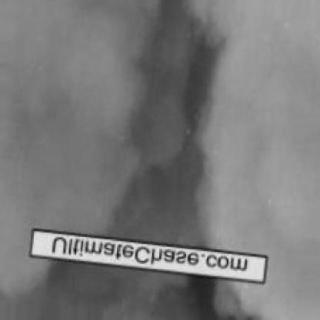Smoke: (9, 15, 302, 318)
